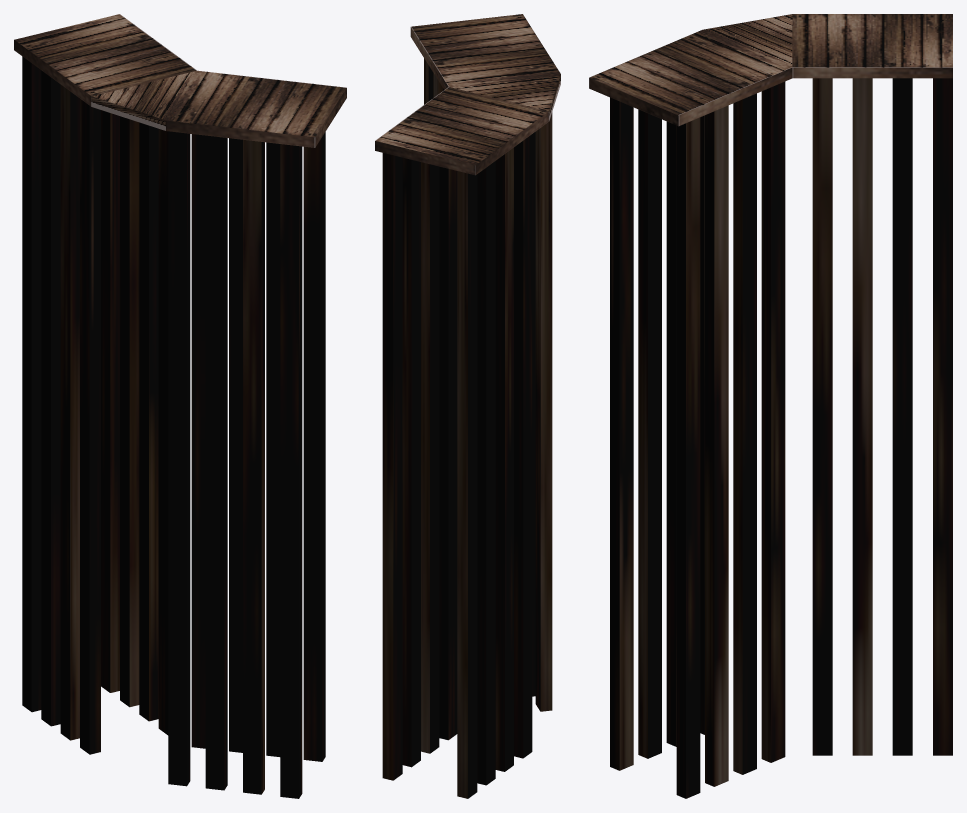
The model's file is Platform45DegreeFBX.fbx.
3 renders of one model, left to right at view 1: azimuth 30°, elevation 25°; view 2: azimuth 150°, elevation 25°; view 3: azimuth 270°, elevation 25°, orthographic. The views are drawn at different scales.
Visible parts, largest first — view 1: 45DegreeTurn; view 2: 45DegreeTurn; view 3: 45DegreeTurn.
Part boxes in pixels (x1,y1,x2,y2): 45DegreeTurn: (14,14,346,798); 45DegreeTurn: (375,14,560,798); 45DegreeTurn: (589,14,952,798).
Bounding box in the file's own units: 894 × 2845 × 1355.
